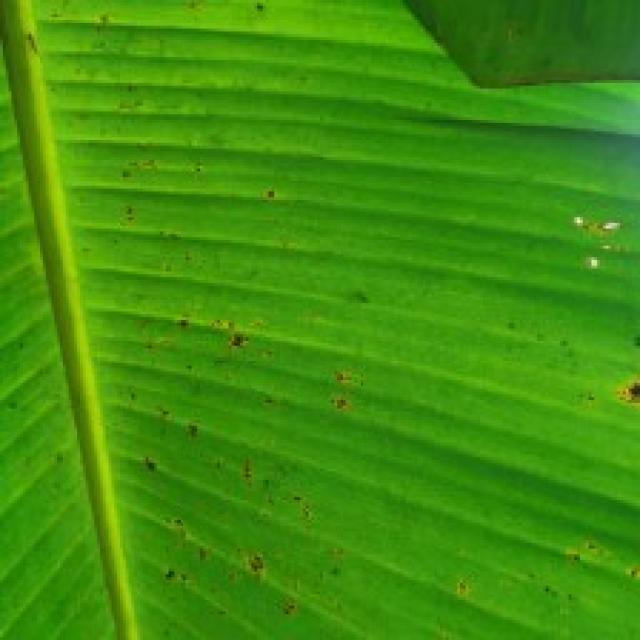Downey_mildrew: (19, 1, 640, 639)
